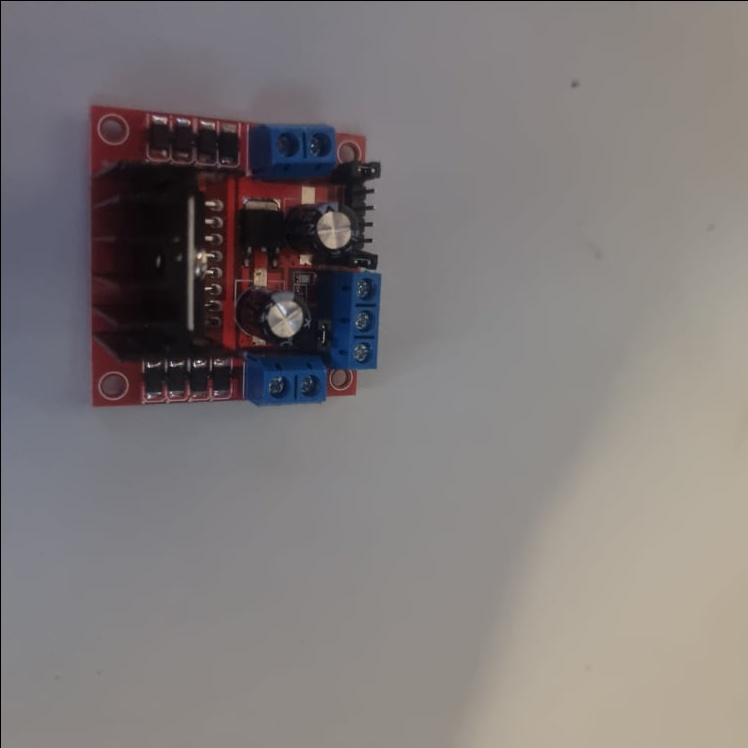MOTOR: (85, 103, 387, 403)
